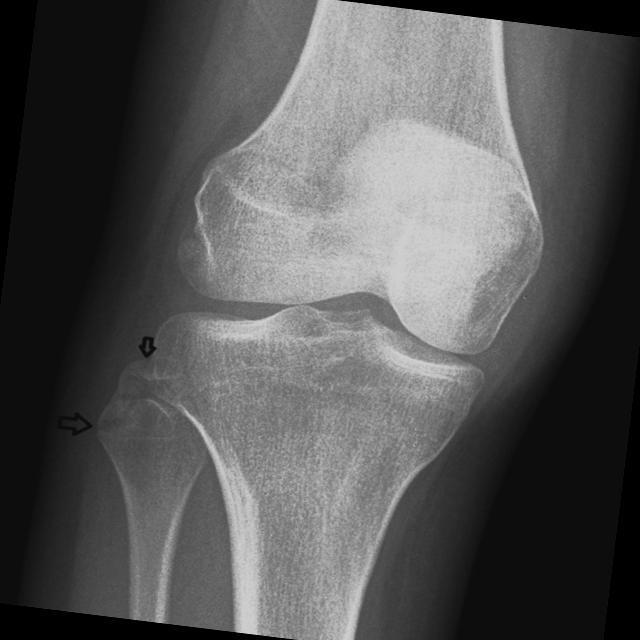Avlusion Fracture: (121, 355, 184, 390), (99, 394, 143, 444)
